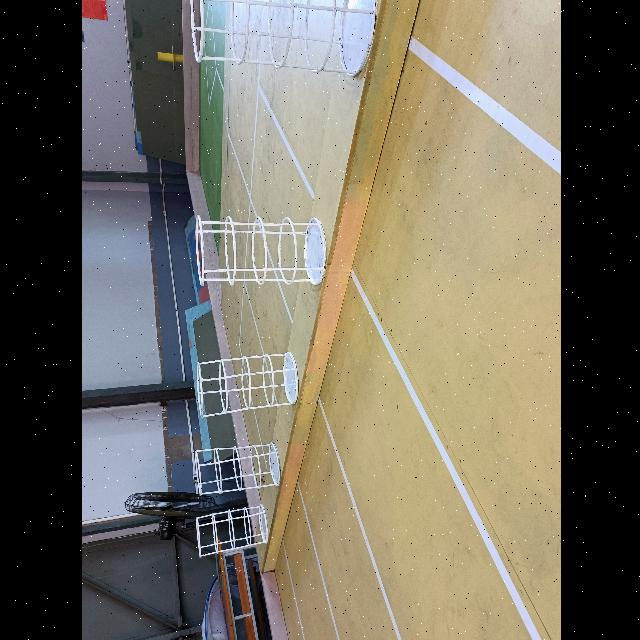S: (185, 0, 378, 76), (190, 212, 322, 290), (193, 351, 299, 419), (195, 440, 281, 496), (192, 506, 268, 558)
